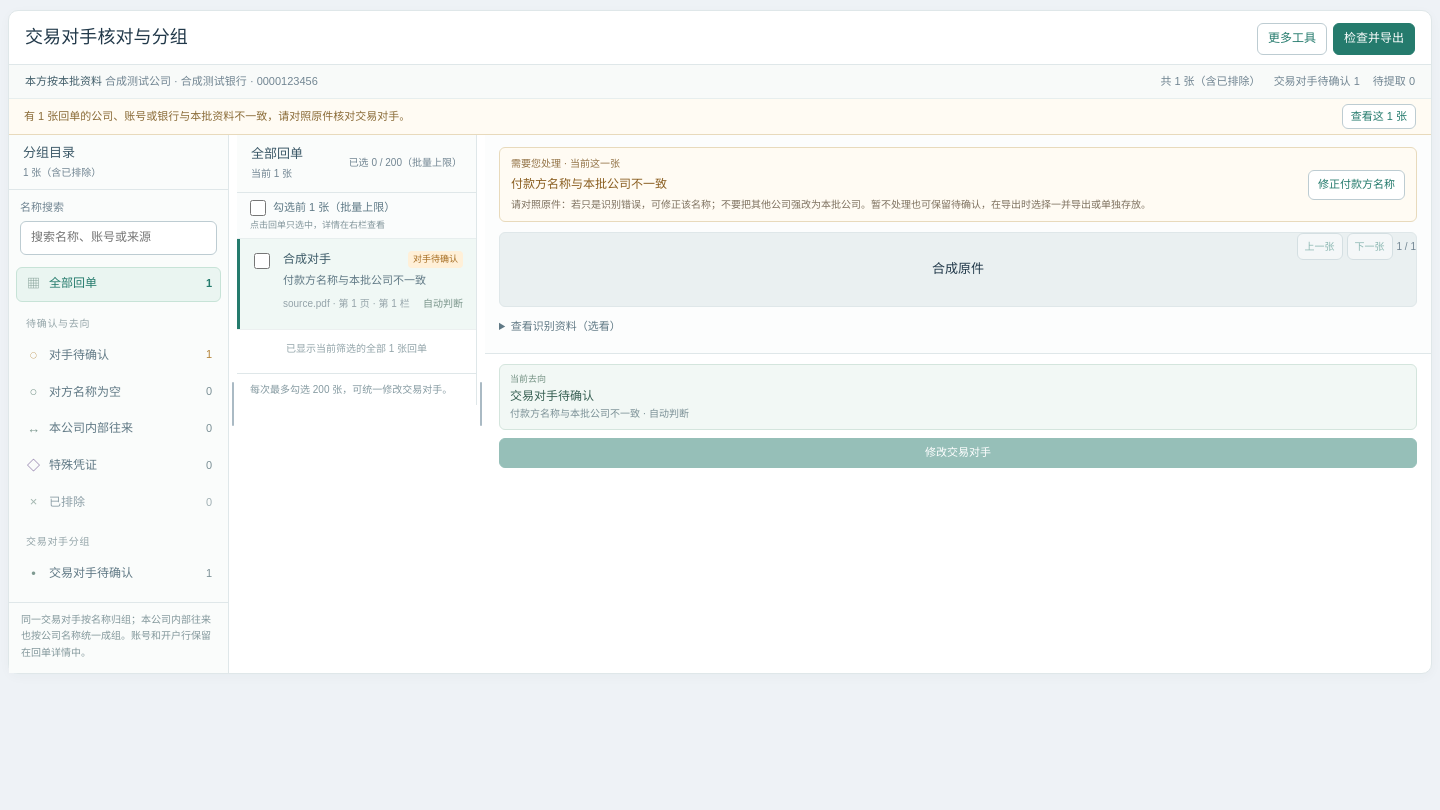
it: 本方采用批次资料后的交易对手核对 › 批次资料明确冲突引导修正实际本方字段，保存后消除提示且不要求身份确认
The width and height of the screenshot is (1440, 810).
Step 1. Click the button "修正付款方名称" → (1356, 185), box [1308,170,1405,200]
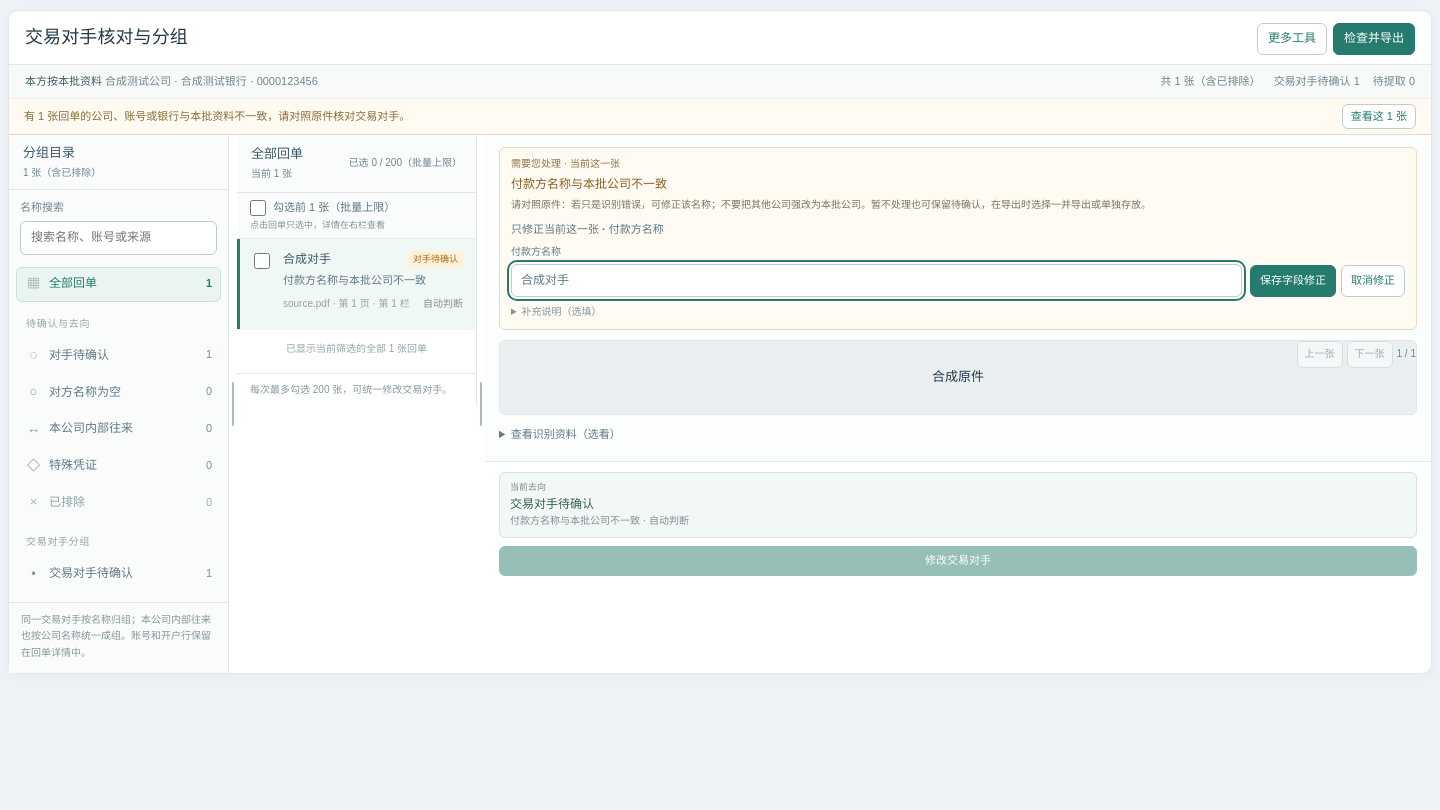
expect the element "只修正当前这一张 · 付款方名称" is shown: met, box [511,222,1405,320]
expect the field named "字段修正值" holds "合成对手": met
Step 2. Replace the text in the field named "字段修正值" with "合成测试公司" → (876, 280), box [511,264,1242,297]
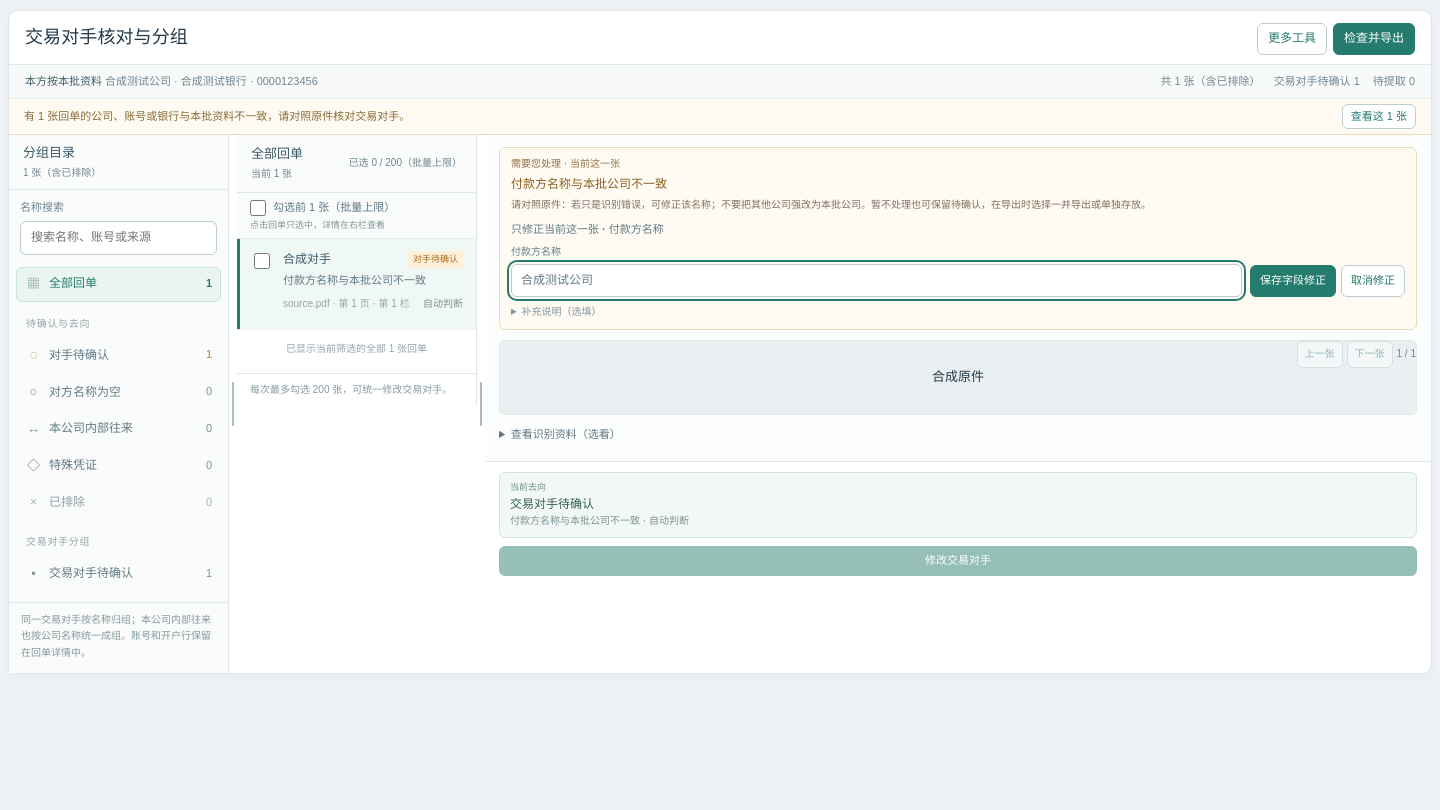
Step 3. Click the button "保存字段修正" → (1293, 281), box [1250,265,1336,297]
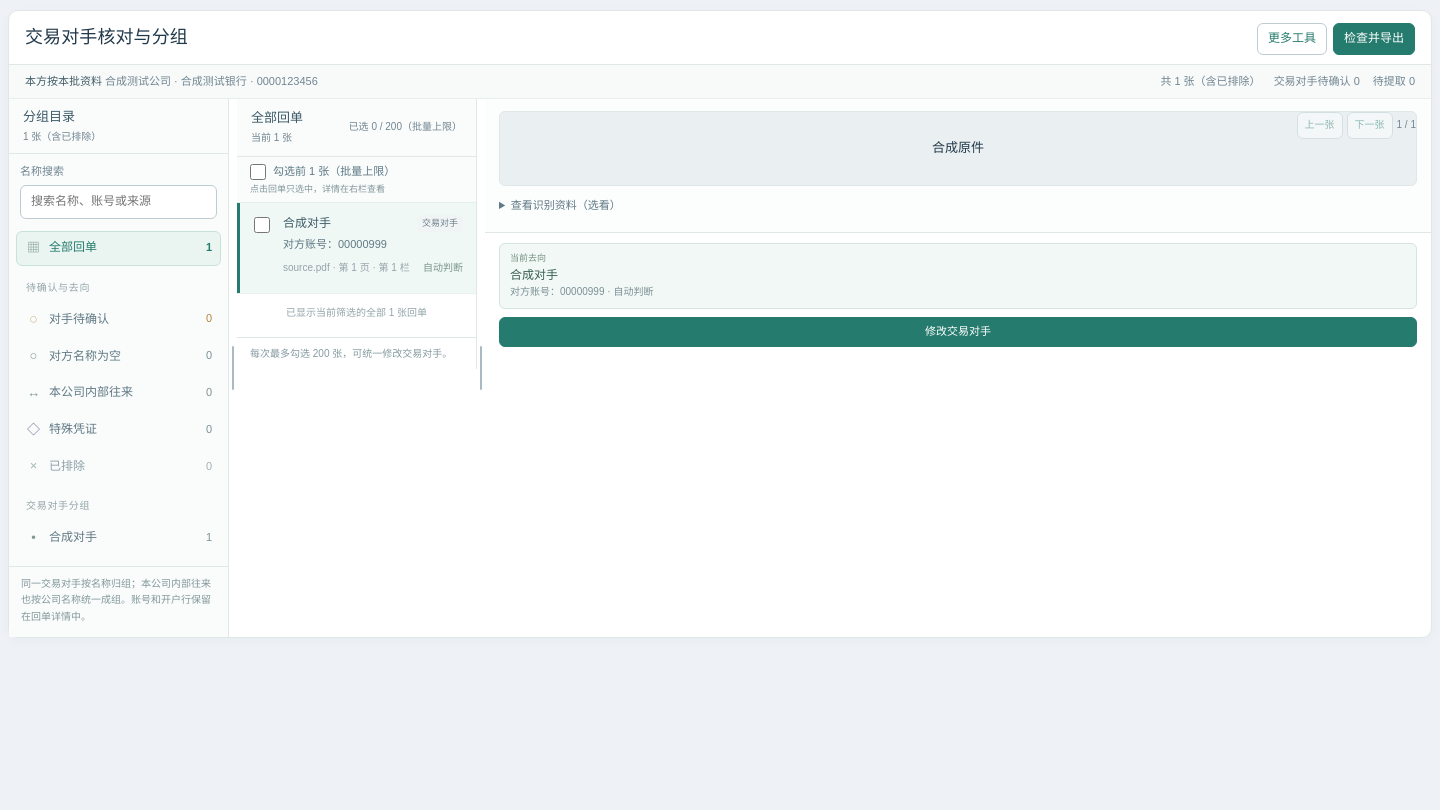
expect the field labelled "本批资料差异提示" is gone: met
expect the text "需要您处理" is gone: met
